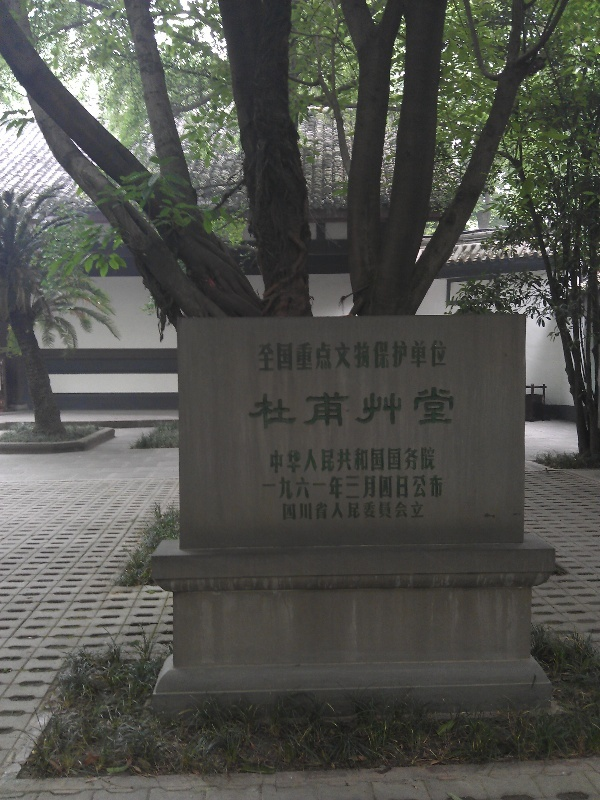text: (257, 387, 272, 432), (273, 387, 288, 432), (289, 387, 304, 432), (305, 387, 320, 432), (321, 387, 336, 432), (337, 387, 352, 432), (353, 387, 368, 432), (369, 387, 384, 432), (385, 387, 400, 432), (401, 387, 416, 432), (417, 387, 432, 432), (433, 387, 448, 432), (273, 339, 288, 373), (289, 339, 304, 373), (305, 339, 320, 373), (321, 339, 336, 373), (337, 339, 352, 373), (353, 339, 368, 373), (369, 339, 384, 373), (385, 339, 400, 373), (401, 339, 416, 373), (417, 339, 432, 373), (433, 339, 448, 373), (258, 339, 272, 373), (449, 387, 459, 432), (273, 445, 288, 475), (289, 445, 304, 475), (305, 445, 320, 475), (321, 445, 336, 475), (337, 445, 352, 475), (353, 445, 368, 475), (369, 445, 384, 475), (385, 445, 400, 475), (401, 445, 416, 475), (417, 445, 432, 475), (273, 473, 288, 501), (289, 473, 304, 501), (305, 473, 320, 501), (321, 473, 336, 501), (337, 473, 352, 501), (353, 473, 368, 501), (369, 473, 384, 501), (385, 473, 400, 501), (401, 473, 416, 501), (417, 473, 432, 501), (289, 499, 304, 522), (305, 499, 320, 522), (321, 499, 336, 522), (337, 499, 352, 522), (353, 499, 368, 522), (369, 499, 384, 522), (385, 499, 400, 522), (401, 499, 416, 522), (249, 387, 256, 432), (433, 473, 444, 501), (262, 473, 272, 501), (417, 499, 426, 522), (282, 499, 288, 522), (268, 445, 272, 475), (433, 445, 437, 475)
